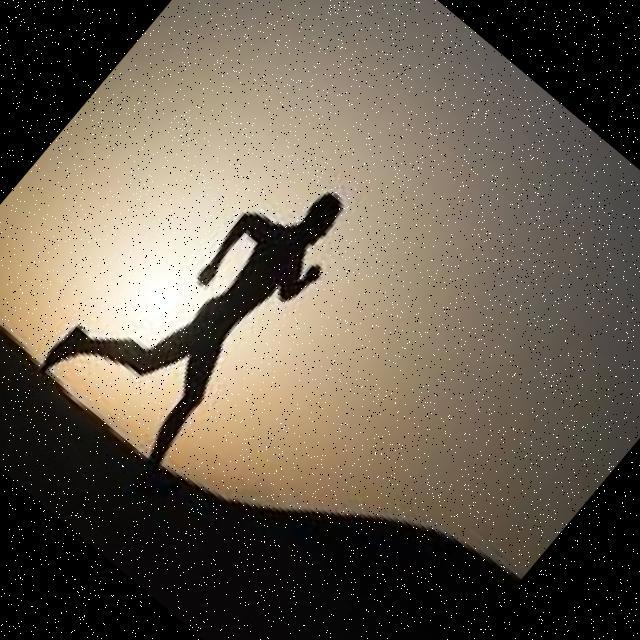Person: (37, 118, 367, 468)
